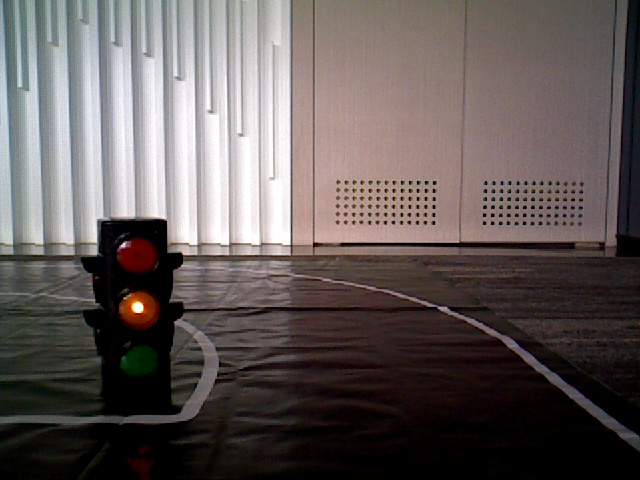yellow: (101, 222, 167, 399)
